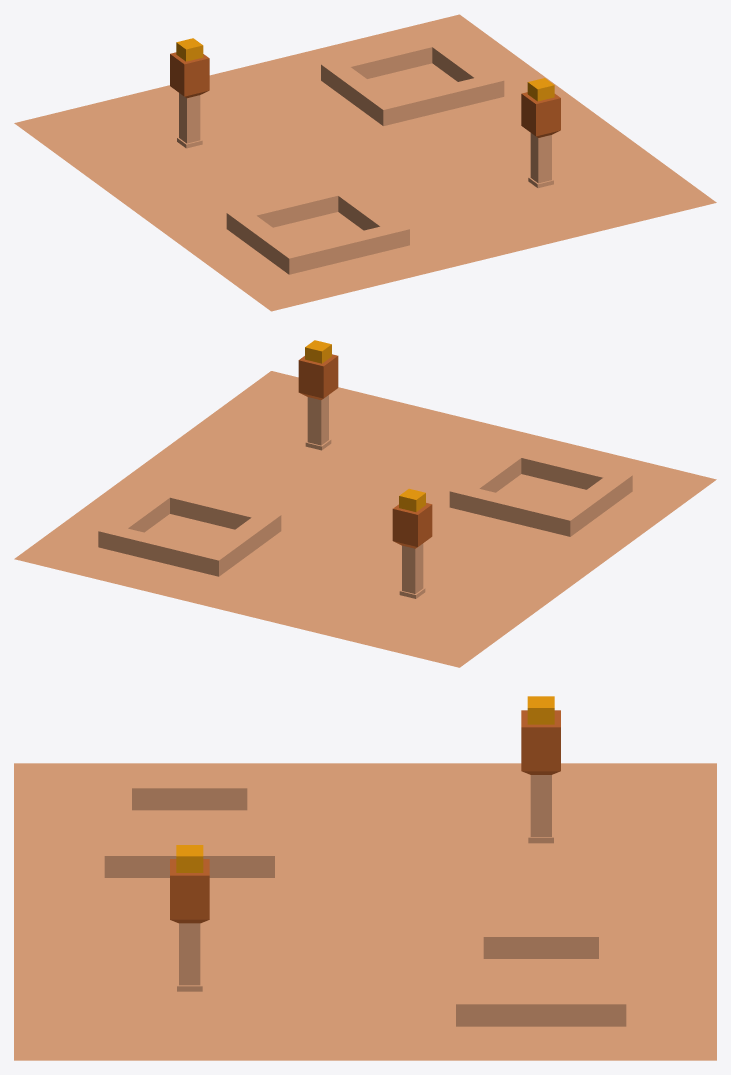
The model's file is casino_ceiling.FBX.
3 views of the same model, one above another, from view 1: azimuth 30°, elevation 25°; view 2: azimuth 150°, elevation 25°; view 3: azimuth 270°, elevation 25° (orthographic). The views are drawn at different scales.
Visible parts, largest first — view 1: casino_ceiling; view 2: casino_ceiling; view 3: casino_ceiling.
Boxes of the visible parts, x1=… form: casino_ceiling: x1=14, y1=14, x2=716, y2=311; casino_ceiling: x1=14, y1=340, x2=716, y2=667; casino_ceiling: x1=14, y1=696, x2=716, y2=1060.
Bounding box in the file's own units: 78.38 × 16.68 × 78.38.
1 material, 1 textured.
